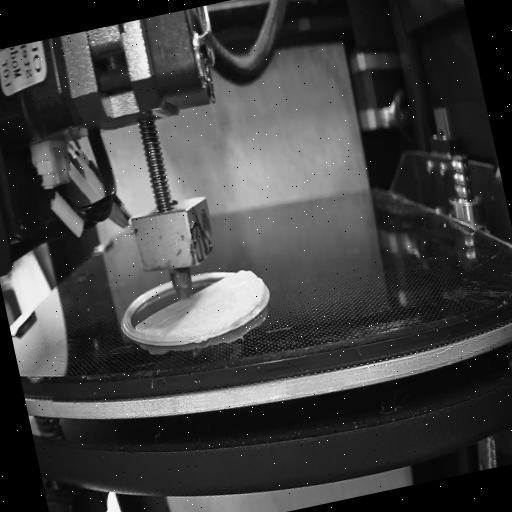over_extrusion: (234, 253, 270, 309)
